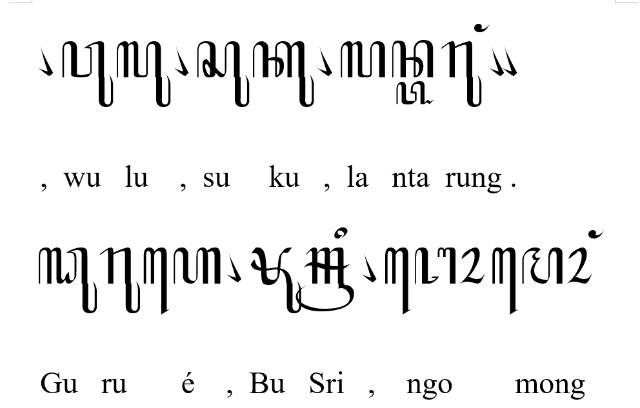Bu: (250, 246, 302, 314)
Gu: (36, 247, 98, 314)
Sr: (296, 248, 354, 312)
_t: (395, 80, 435, 105)
e1: (385, 246, 411, 316), (143, 248, 169, 316), (492, 247, 518, 315)
h: (172, 247, 222, 286)
i: (334, 228, 348, 240)
kom: (38, 47, 54, 77), (488, 46, 504, 76), (502, 46, 518, 76), (226, 253, 242, 283), (360, 253, 376, 283), (174, 45, 188, 77), (318, 47, 332, 77)
ku: (252, 40, 314, 108)
l: (340, 40, 386, 78)
lu: (115, 40, 171, 108)
m: (521, 247, 565, 285)
n: (392, 40, 434, 78)
ng: (474, 23, 491, 33), (588, 229, 604, 239)
nga: (413, 247, 457, 285)
o: (566, 246, 592, 284), (460, 248, 486, 284)
ru: (441, 40, 483, 108), (99, 247, 141, 314)
su: (197, 40, 250, 108)
wu: (62, 40, 114, 108)
